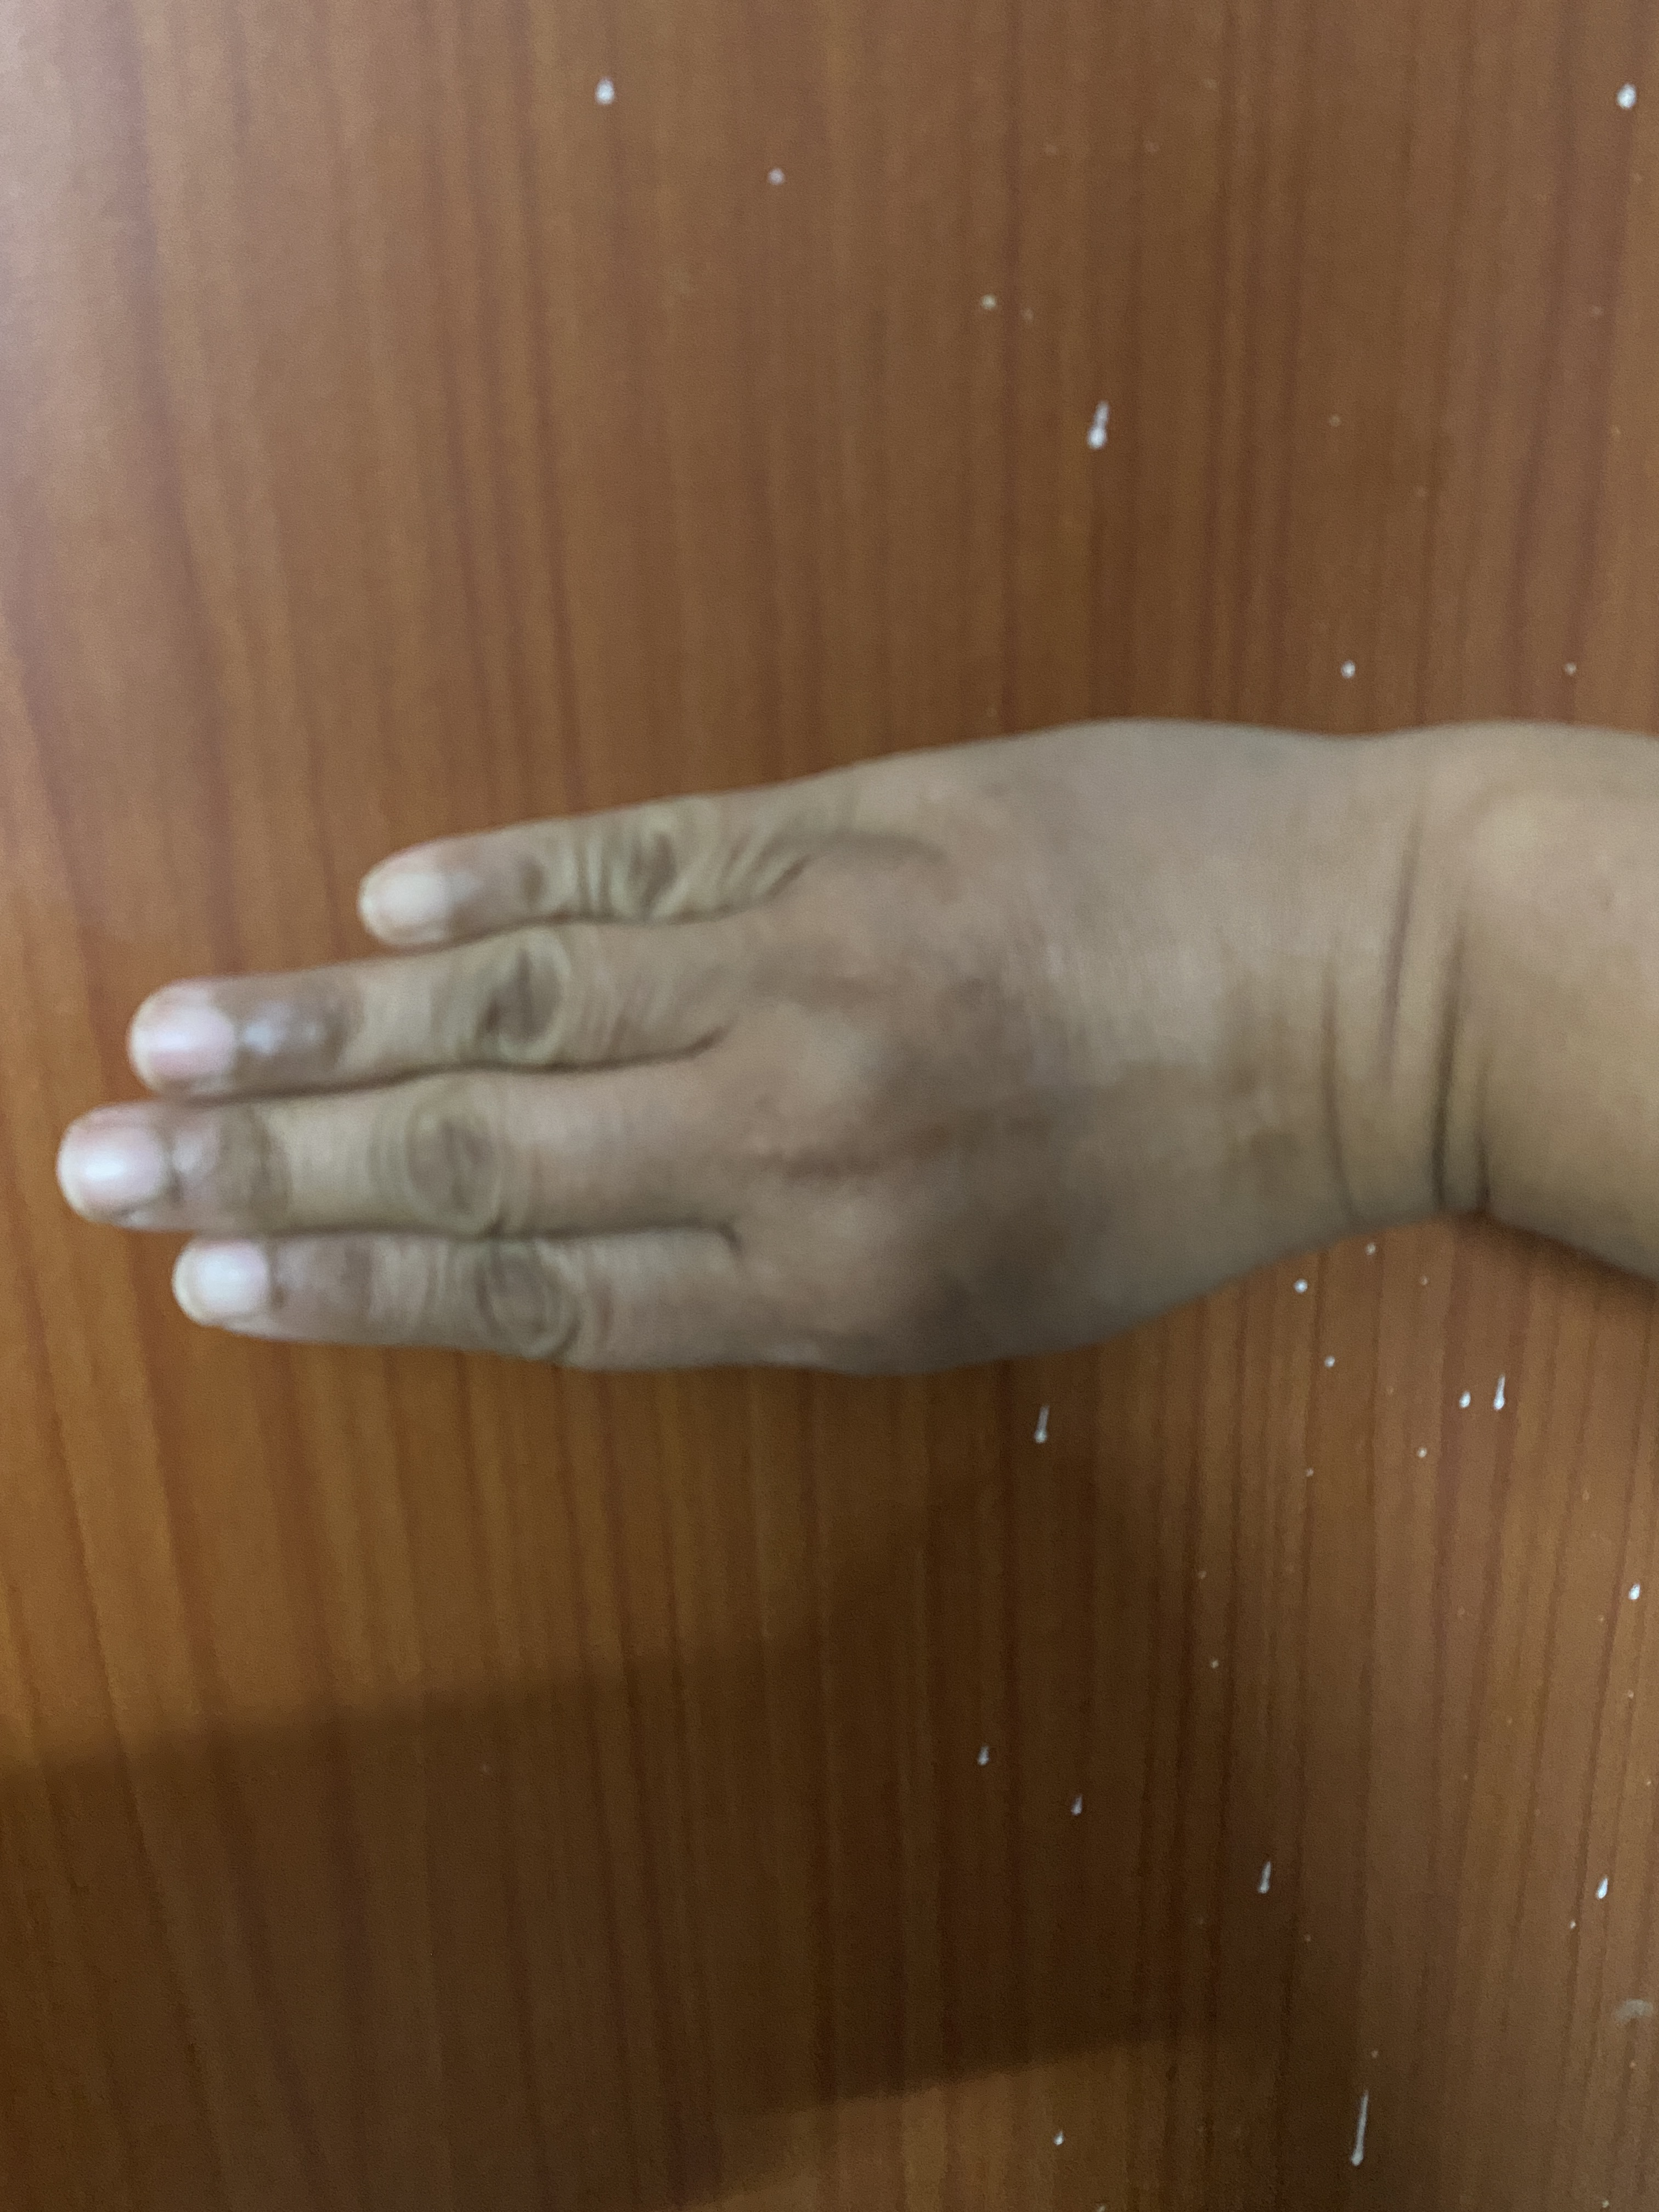right: (35, 394, 1659, 1454)
